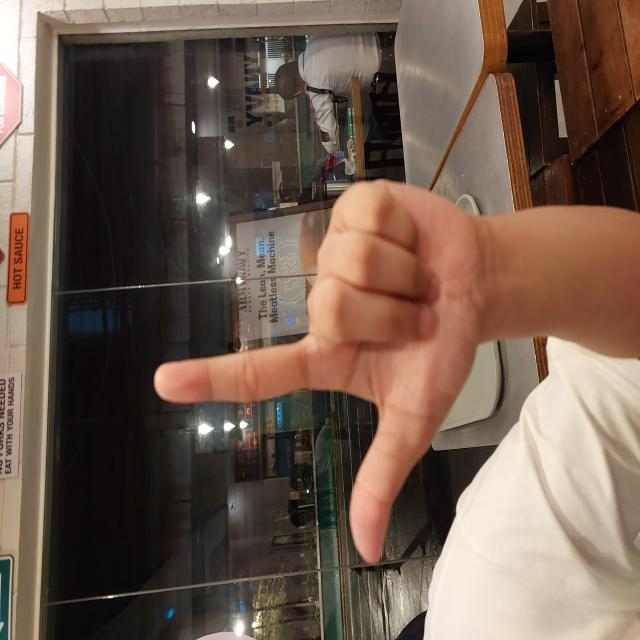L: (72, 151, 464, 484)
